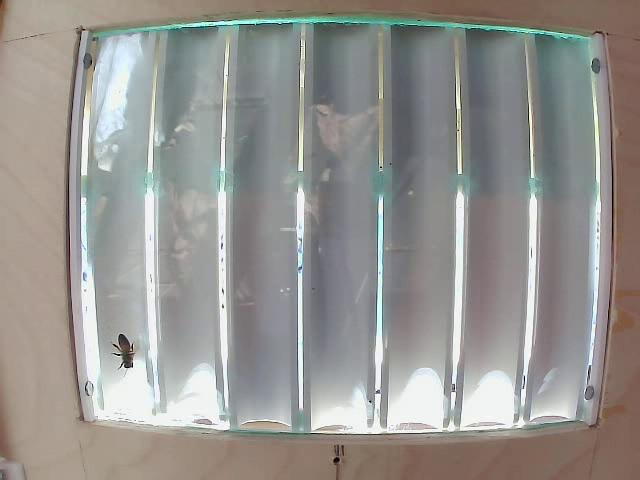bee: (111, 326, 145, 379)
